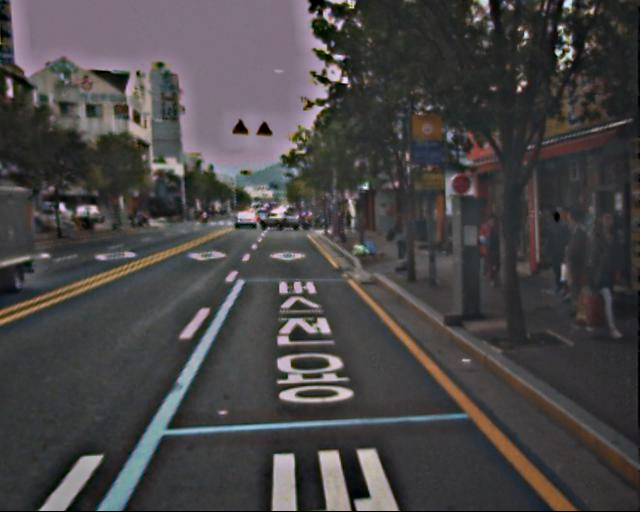person: (549, 205, 629, 321), (481, 217, 508, 284), (391, 216, 411, 264)
